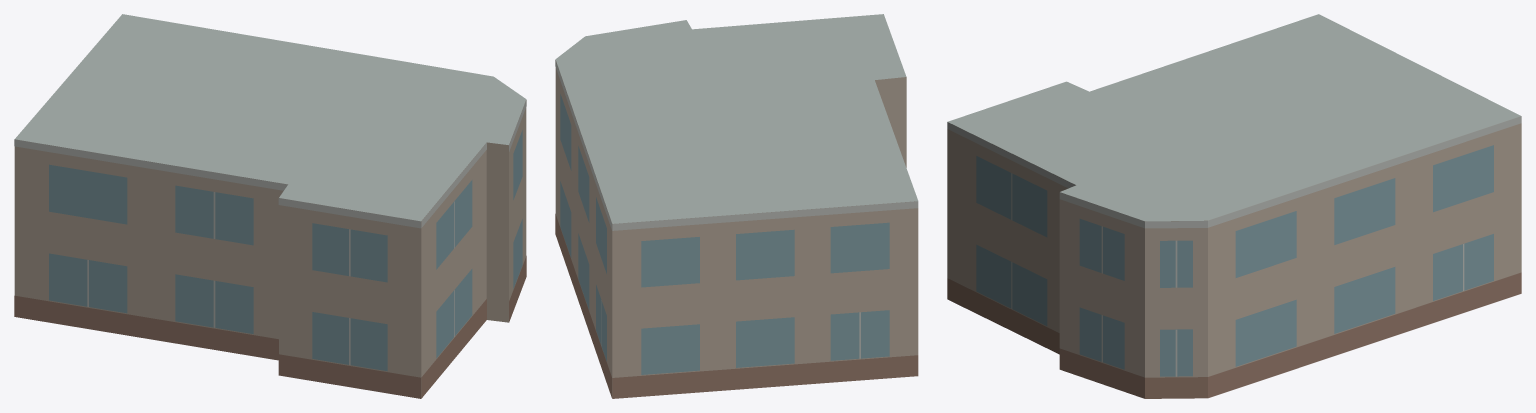
File: survey-upis-32646261.glb
The picture shows the model from 3 angles, left to right: view 1: azimuth 30°, elevation 25°; view 2: azimuth 150°, elevation 25°; view 3: azimuth 270°, elevation 25°; orthographic projection.
Parts seen in each view (by area): view 1: survey-upis-32646261.tmp; view 2: survey-upis-32646261.tmp; view 3: survey-upis-32646261.tmp.
Boxes of the visible parts, x1,y1,x2,y2 form: survey-upis-32646261.tmp: (14,14,526,398); survey-upis-32646261.tmp: (555,14,918,398); survey-upis-32646261.tmp: (947,14,1521,398).
Bounding box in the file's own units: 15.29 × 6.1 × 17.89.
